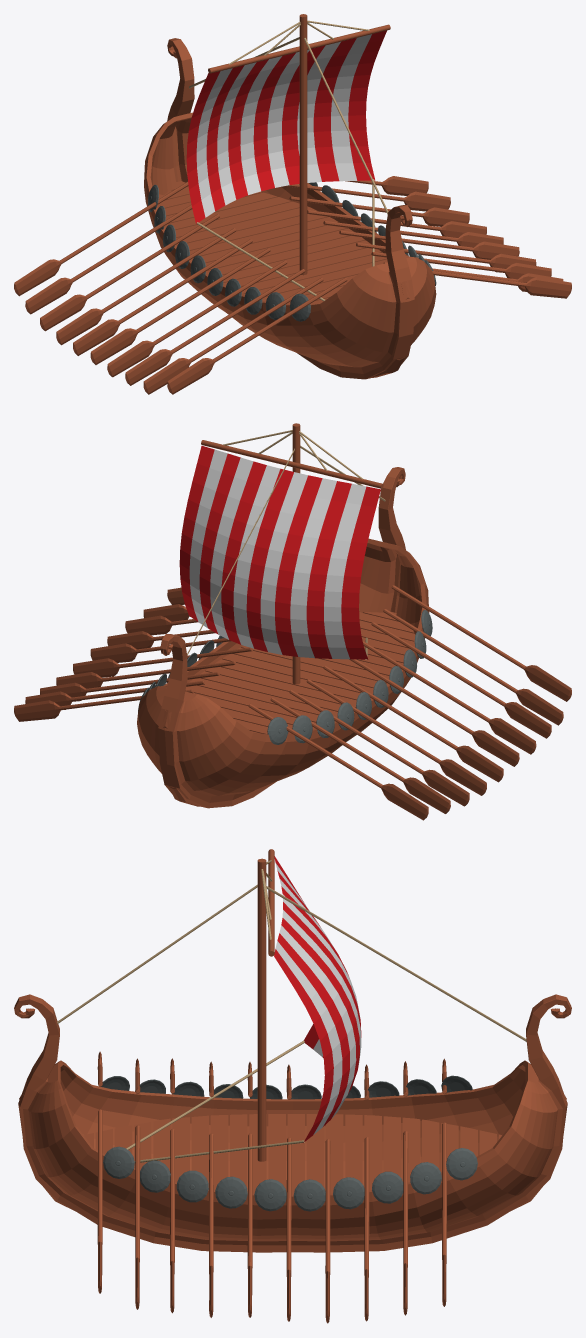
File: viking.glb
3 views of the same model, one above another, from view 1: azimuth 30°, elevation 25°; view 2: azimuth 150°, elevation 25°; view 3: azimuth 270°, elevation 25° (orthographic). The views are drawn at different scales.
Parts seen in each view (by area): view 1: Cylinder.002, Plane.001, Plane, Cube, Cylinder.011, Cylinder.001, Cylinder.003, Cylinder, Cylinder.006, Cylinder.004; view 2: Plane.001, Cylinder.002, Plane, Cube, Cylinder.011, Cylinder.003, Cylinder.001; view 3: Plane, Cube, Cylinder.002, Plane.001, Cylinder, Cylinder.011, Cylinder.001, Cylinder.006, Cylinder.005, Cylinder.004, Cylinder.003.
Part boxes in pixels (x1=…): Cylinder.002: x1=14, y1=176, x2=571, y2=394; Plane.001: x1=186, y1=30, x2=386, y2=223; Plane: x1=144, y1=38, x2=436, y2=379; Cube: x1=157, y1=180, x2=387, y2=304; Cylinder.011: x1=148, y1=184, x2=310, y2=321; Cylinder.001: x1=299, y1=14, x2=307, y2=275; Cylinder.003: x1=208, y1=24, x2=390, y2=73; Cylinder: x1=308, y1=182, x2=436, y2=285; Cylinder.006: x1=196, y1=179, x2=374, y2=301; Cylinder.004: x1=304, y1=38, x2=388, y2=214; Plane.001: x1=179, y1=446, x2=380, y2=659; Cylinder.002: x1=14, y1=585, x2=571, y2=820; Plane: x1=137, y1=467, x2=429, y2=808; Cube: x1=185, y1=612, x2=415, y2=733; Cylinder.011: x1=267, y1=610, x2=432, y2=744; Cylinder.003: x1=201, y1=440, x2=383, y2=488; Cylinder.001: x1=292, y1=423, x2=300, y2=684; Plane: x1=14, y1=994, x2=571, y2=1252; Cube: x1=84, y1=1114, x2=501, y2=1194; Cylinder.002: x1=97, y1=1051, x2=446, y2=1323; Plane.001: x1=274, y1=856, x2=361, y2=1142; Cylinder: x1=103, y1=1146, x2=477, y2=1211; Cylinder.011: x1=101, y1=1075, x2=472, y2=1099; Cylinder.001: x1=257, y1=858, x2=266, y2=1161; Cylinder.006: x1=126, y1=1040, x2=304, y2=1162; Cylinder.005: x1=266, y1=886, x2=526, y2=1041; Cylinder.004: x1=57, y1=884, x2=257, y2=1023; Cylinder.003: x1=268, y1=849, x2=274, y2=956.
Bounding box in the file's own units: 11.35 × 8.4 × 10.97.
